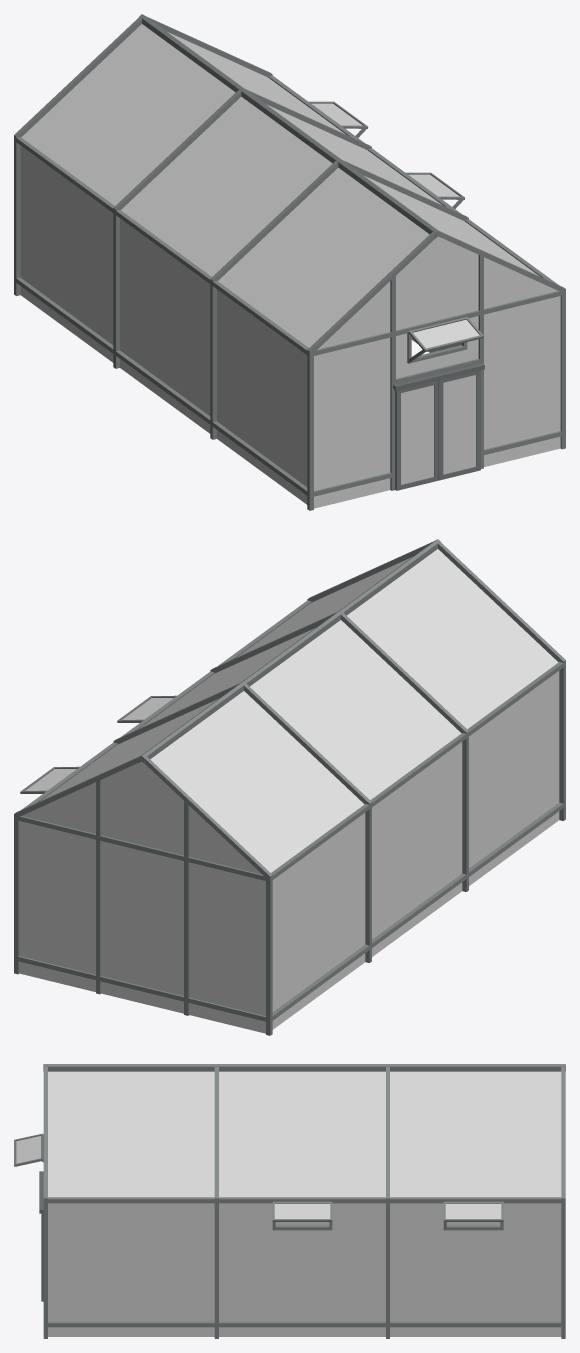
File: SM_Bldg_Farm_GreenHouse_03.fbx
3 views of the same model, one above another, from view 1: azimuth 30°, elevation 25°; view 2: azimuth 150°, elevation 25°; view 3: azimuth 270°, elevation 25° (orthographic). The views are drawn at different scales.
Visible parts, largest first — view 1: SM_Bldg_Farm_GreenHouse_03_Plastic, SM_Bldg_Farm_GreenHouse_03; view 2: SM_Bldg_Farm_GreenHouse_03_Plastic, SM_Bldg_Farm_GreenHouse_03; view 3: SM_Bldg_Farm_GreenHouse_03_Plastic, SM_Bldg_Farm_GreenHouse_03.
Boxes of the visible parts, box(x1,y1,x2,y2) form: SM_Bldg_Farm_GreenHouse_03_Plastic: box(20, 24, 560, 508); SM_Bldg_Farm_GreenHouse_03: box(14, 14, 565, 510); SM_Bldg_Farm_GreenHouse_03_Plastic: box(19, 549, 559, 1033); SM_Bldg_Farm_GreenHouse_03: box(14, 539, 565, 1035); SM_Bldg_Farm_GreenHouse_03_Plastic: box(48, 1071, 561, 1336); SM_Bldg_Farm_GreenHouse_03: box(14, 1064, 565, 1338).
Size of the model in its own units: 6.79 by 5.66 by 12.9.
